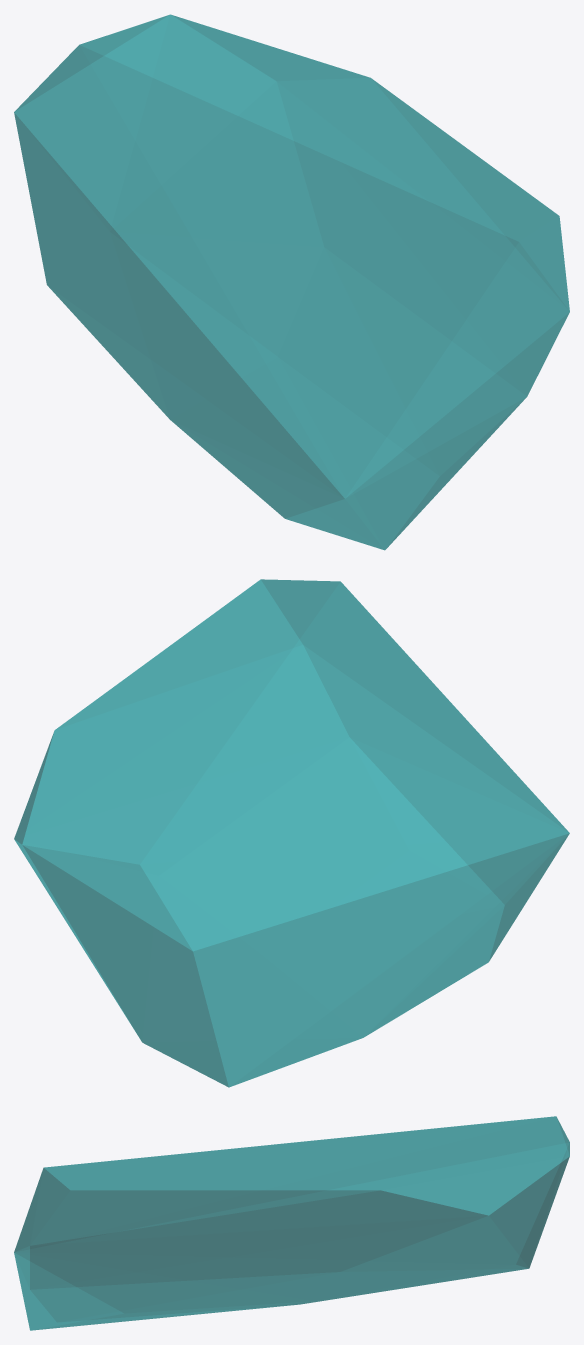
3 renders of one model, top to bottom at view 1: azimuth 30°, elevation 25°; view 2: azimuth 150°, elevation 25°; view 3: azimuth 270°, elevation 25°, orthographic. The views are drawn at different scales.
Visible parts, largest first — view 1: Shape_IndexedFaceSet.026_Shape_IndexedFaceSet.8625; view 2: Shape_IndexedFaceSet.026_Shape_IndexedFaceSet.8625; view 3: Shape_IndexedFaceSet.026_Shape_IndexedFaceSet.8625.
Part boxes in pixels (x1,y1,x2,y2): Shape_IndexedFaceSet.026_Shape_IndexedFaceSet.8625: (14,14,569,550); Shape_IndexedFaceSet.026_Shape_IndexedFaceSet.8625: (14,579,569,1087); Shape_IndexedFaceSet.026_Shape_IndexedFaceSet.8625: (14,1116,569,1330).
Bounding box in the file's own units: 0.0877 × 0.0902 × 0.2063.
